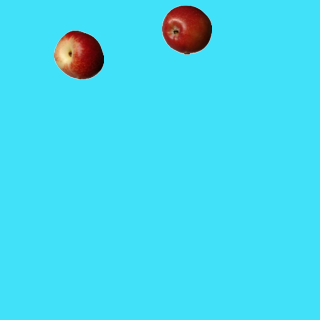Apple Braeburn: (161, 4, 211, 54)
Nectarine: (53, 29, 103, 79)
